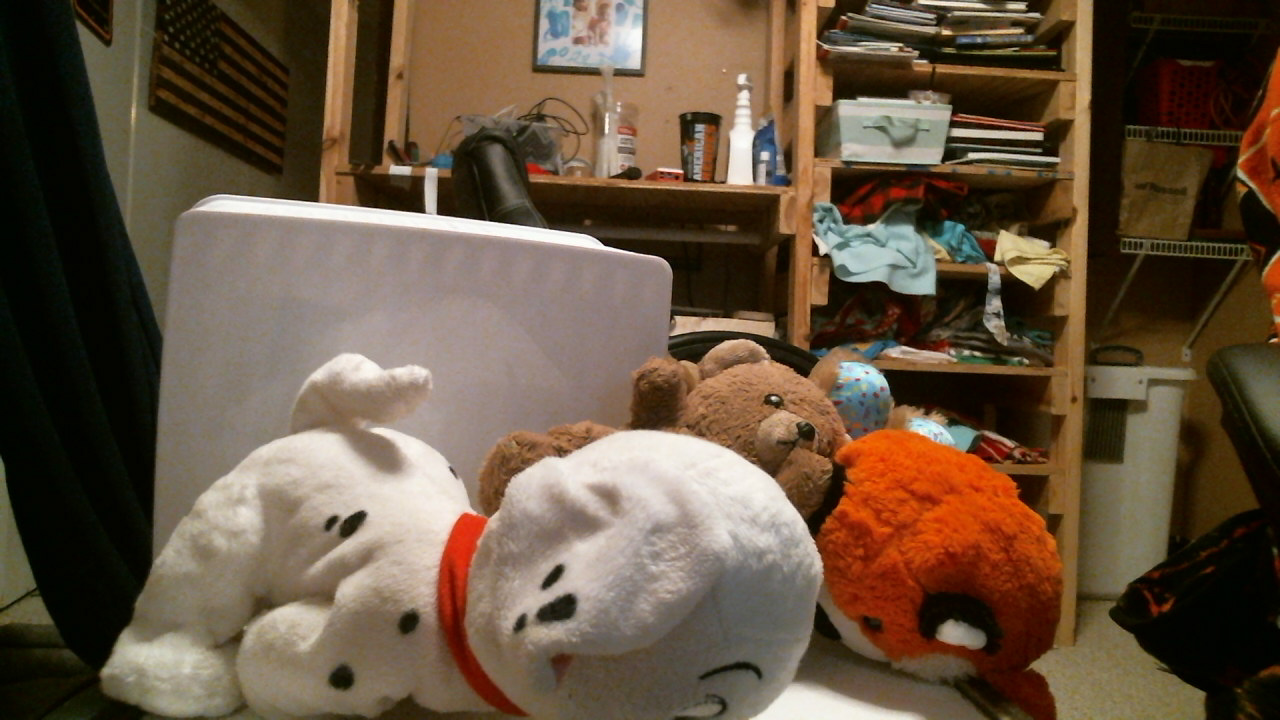Little_Mister_Bear: (753, 396, 844, 460)
